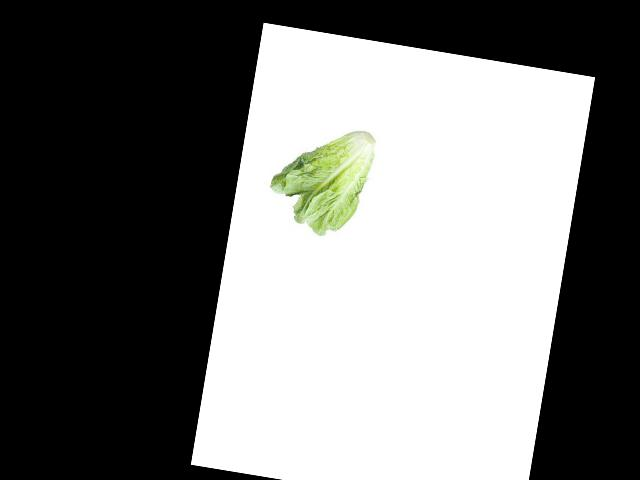lettuce: (258, 119, 375, 237)
